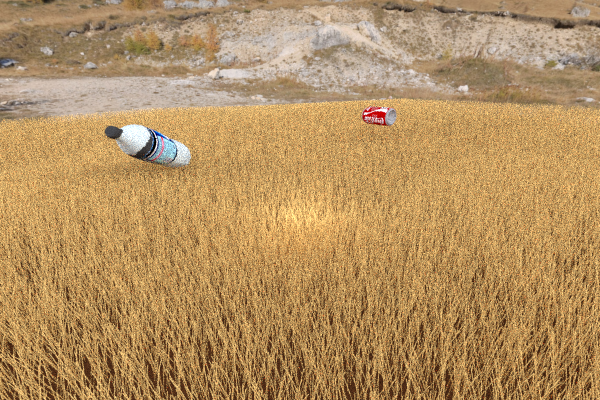bottle: (104, 124, 190, 168)
can: (0, 138, 66, 184), (361, 106, 396, 126)
